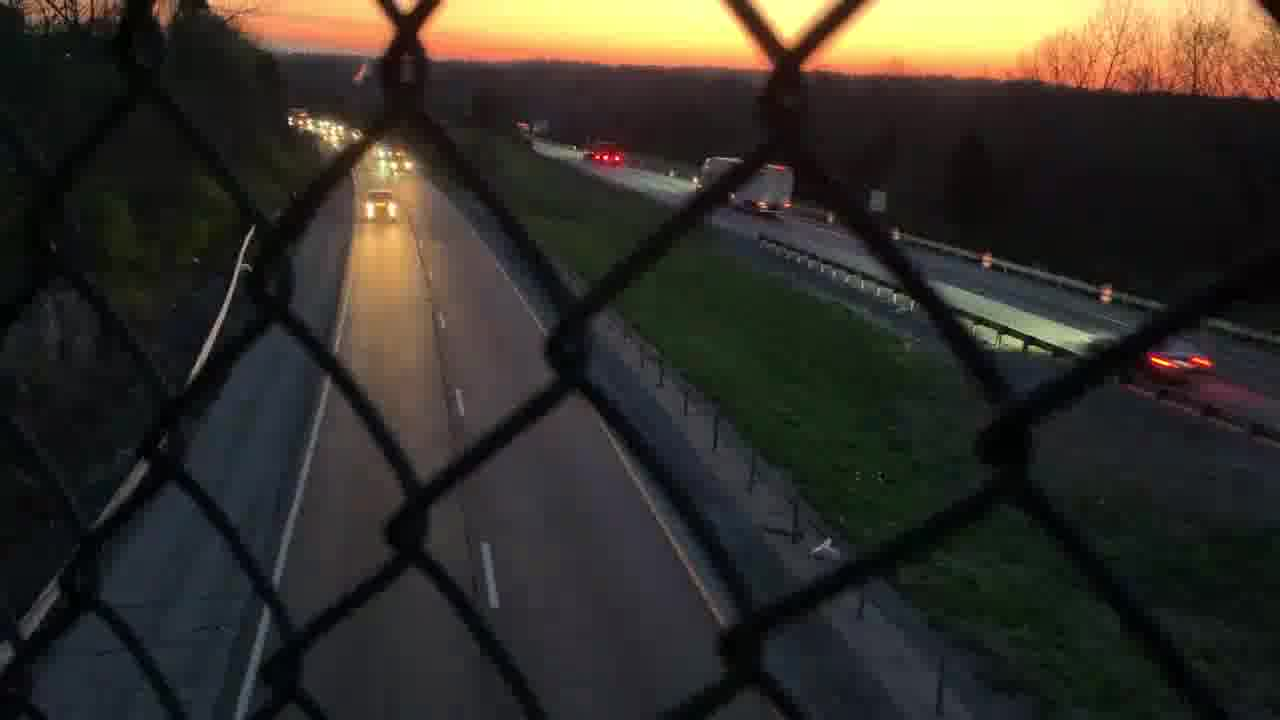heavyTruck: (697, 155, 796, 217), (583, 139, 623, 169)
largeCar: (360, 188, 400, 223)
smallCar: (1089, 323, 1220, 389)
